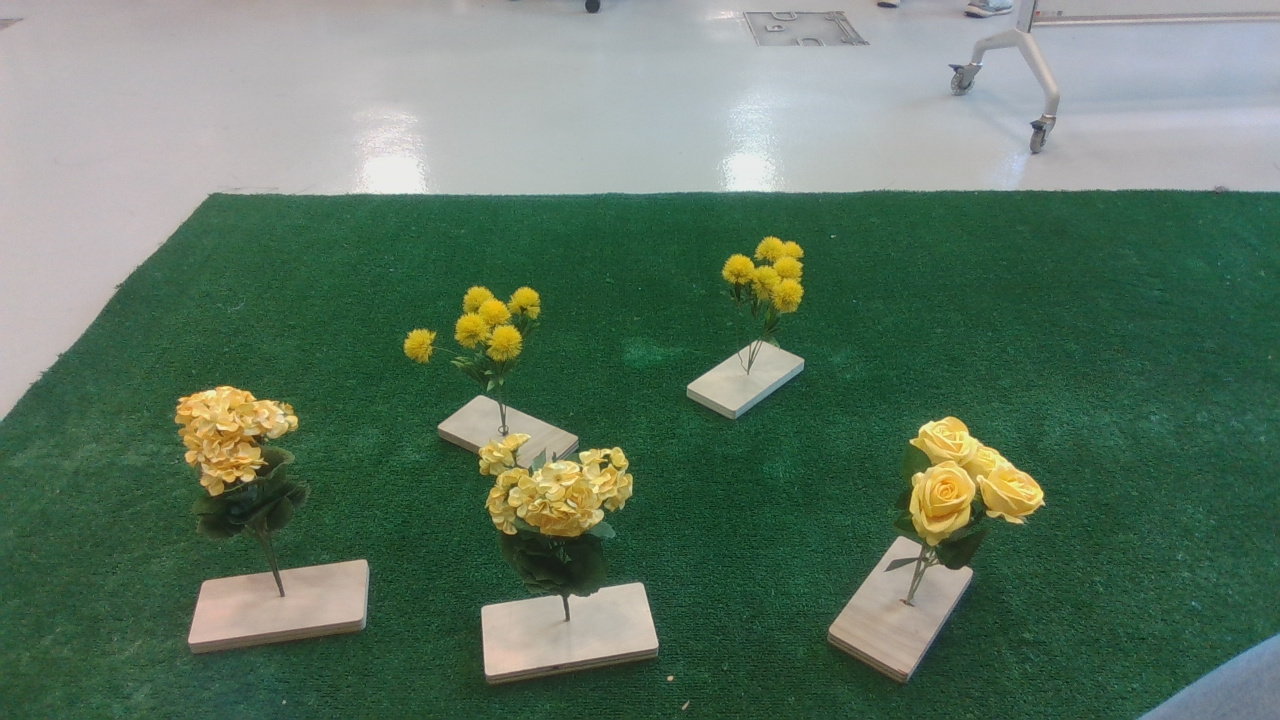dandelion: (395, 278, 558, 385), (712, 233, 826, 328)
geranium: (159, 383, 340, 556), (467, 438, 663, 564)
rose: (878, 414, 1064, 579)
